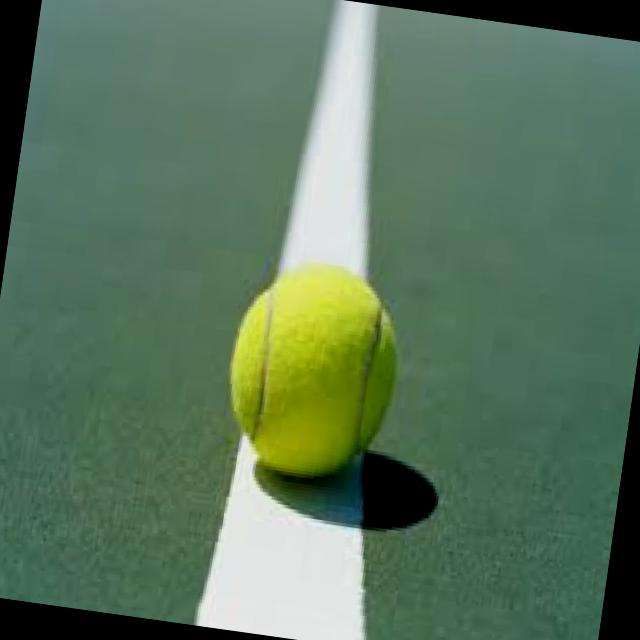Tennis Ball: (218, 255, 410, 488)
